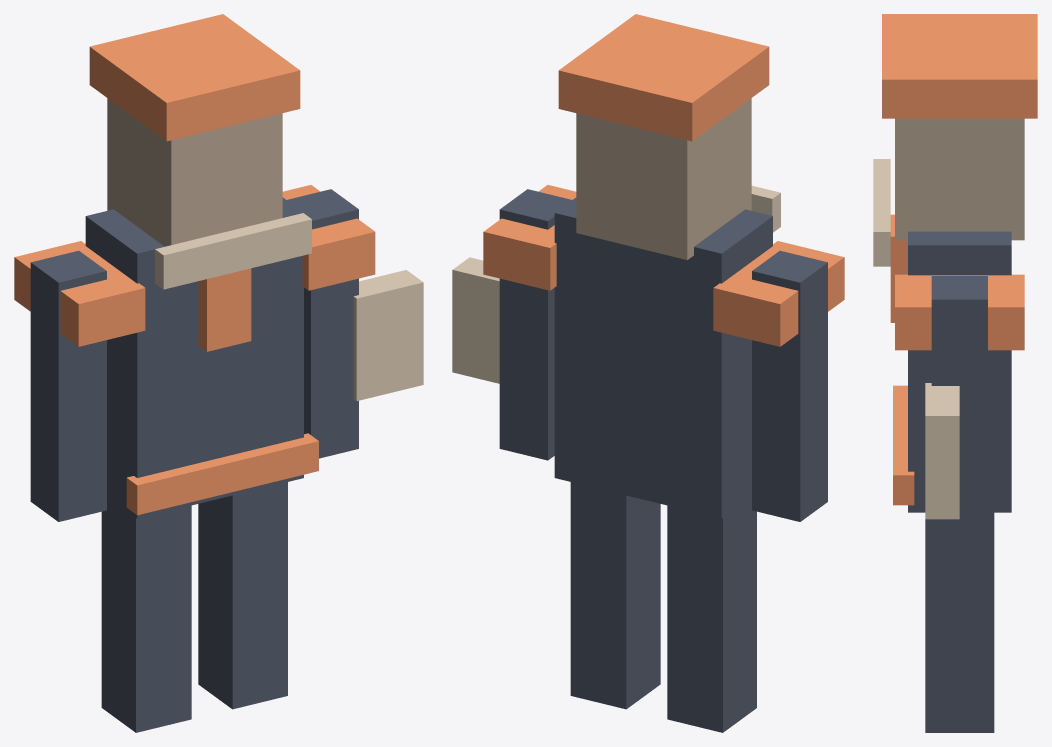
Rendered from 05_juno_whispercoil_ranger_at_defense.glb.
3 views of the same model, side by side, from view 1: azimuth 30°, elevation 25°; view 2: azimuth 150°, elevation 25°; view 3: azimuth 270°, elevation 25° (orthographic).
Parts seen in each view (by area): view 1: Juno Whispercoil, Ranger at Defense; view 2: Juno Whispercoil, Ranger at Defense; view 3: Juno Whispercoil, Ranger at Defense.
Part boxes in pixels (<box>): Juno Whispercoil, Ranger at Defense: <box>14,14,423,732</box>; Juno Whispercoil, Ranger at Defense: <box>452,14,844,732</box>; Juno Whispercoil, Ranger at Defense: <box>873,14,1037,732</box>.
Bounding box in the file's own units: 0.9465 × 1.61 × 0.3689.
